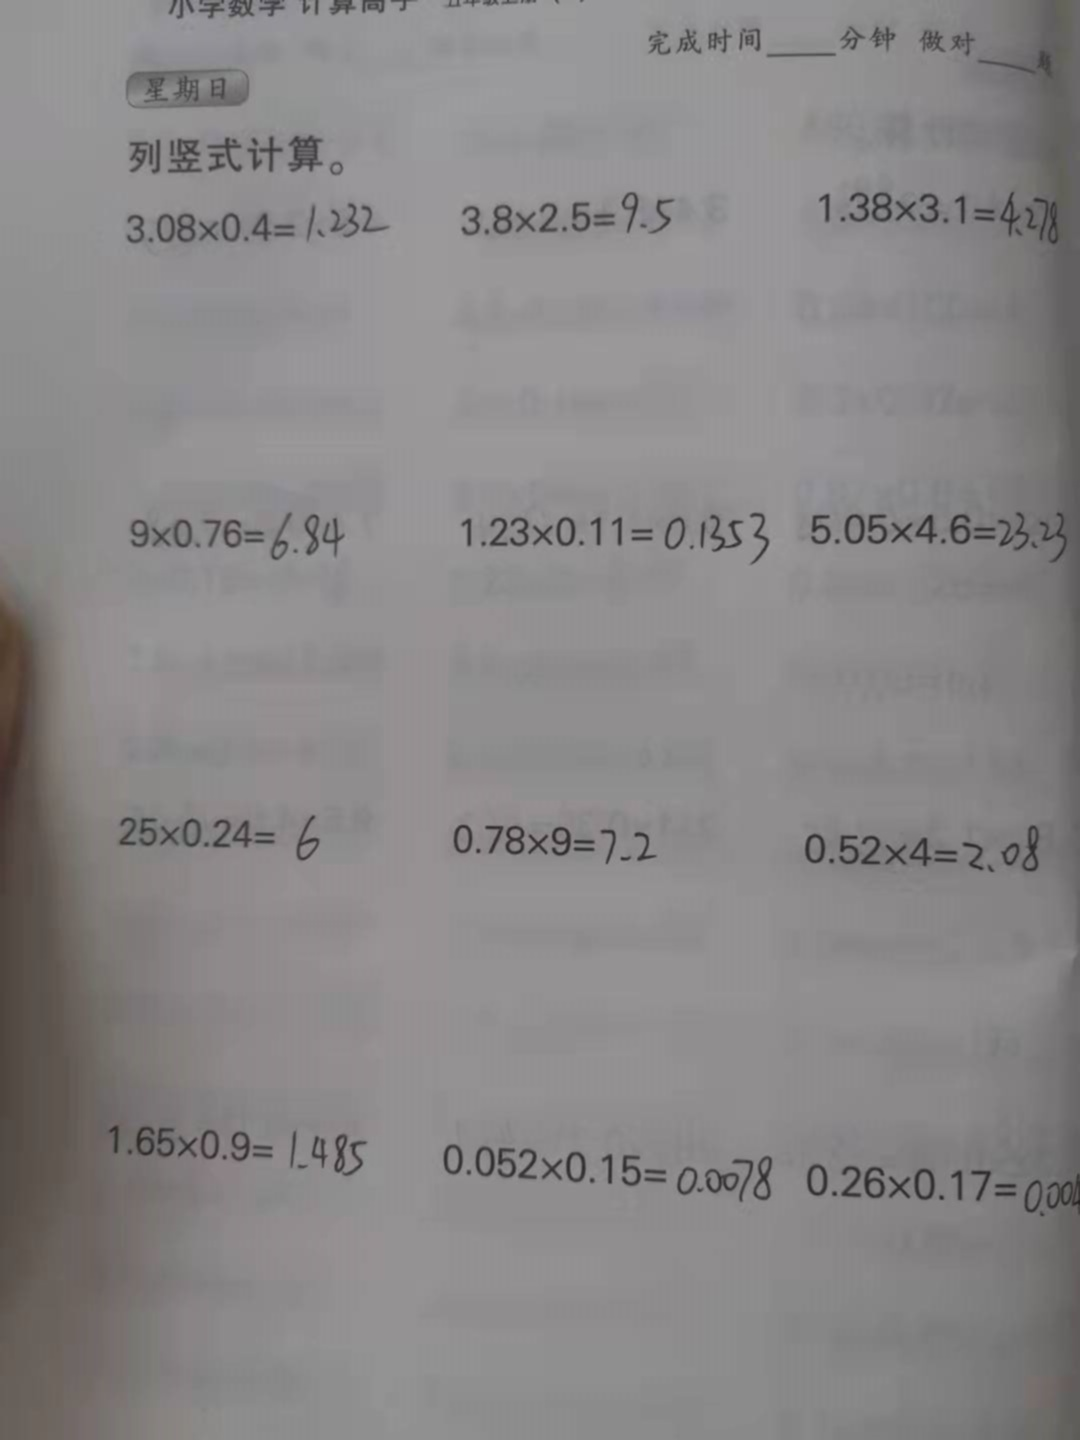equation: (427, 1134, 782, 1201), (798, 1144, 1079, 1227), (454, 501, 774, 569), (100, 1108, 368, 1185), (804, 809, 1055, 889), (810, 183, 1069, 255), (801, 499, 1073, 561), (115, 497, 356, 564), (452, 178, 684, 244), (104, 195, 402, 245), (105, 811, 342, 870), (446, 809, 665, 871)
